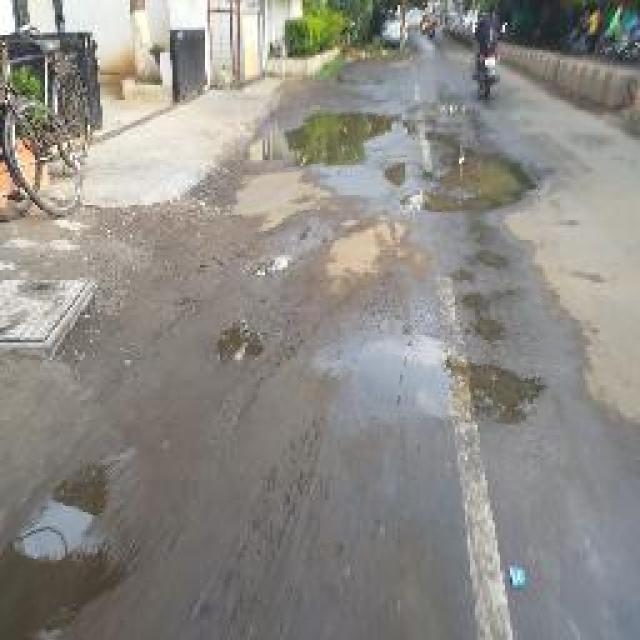puddle: (341, 335, 554, 424), (3, 474, 109, 640), (279, 105, 407, 168), (427, 154, 539, 214), (230, 173, 319, 241)
